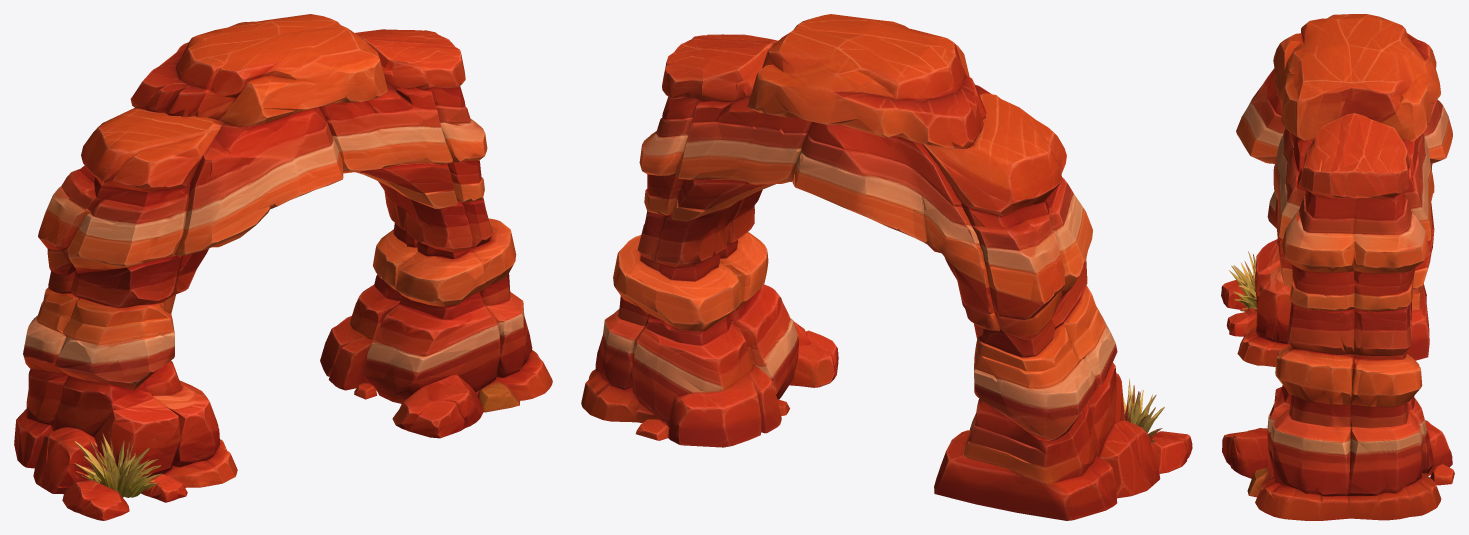
Rendered from rock-arch.glb.
3 views of the same model, side by side, from view 1: azimuth 30°, elevation 25°; view 2: azimuth 150°, elevation 25°; view 3: azimuth 270°, elevation 25° (orthographic). The views are drawn at different scales.
Bounding box in the file's own units: 1.9 × 1.38 × 0.8047.
1 material, 1 textured.
